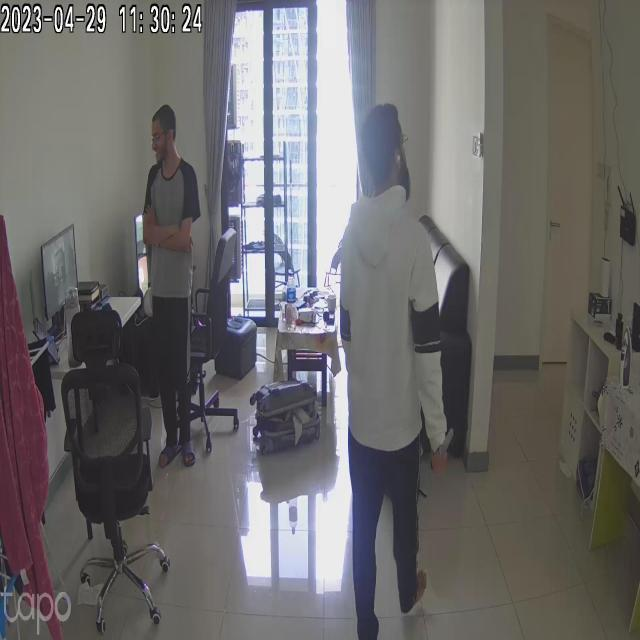Knife: (435, 417, 457, 470)
